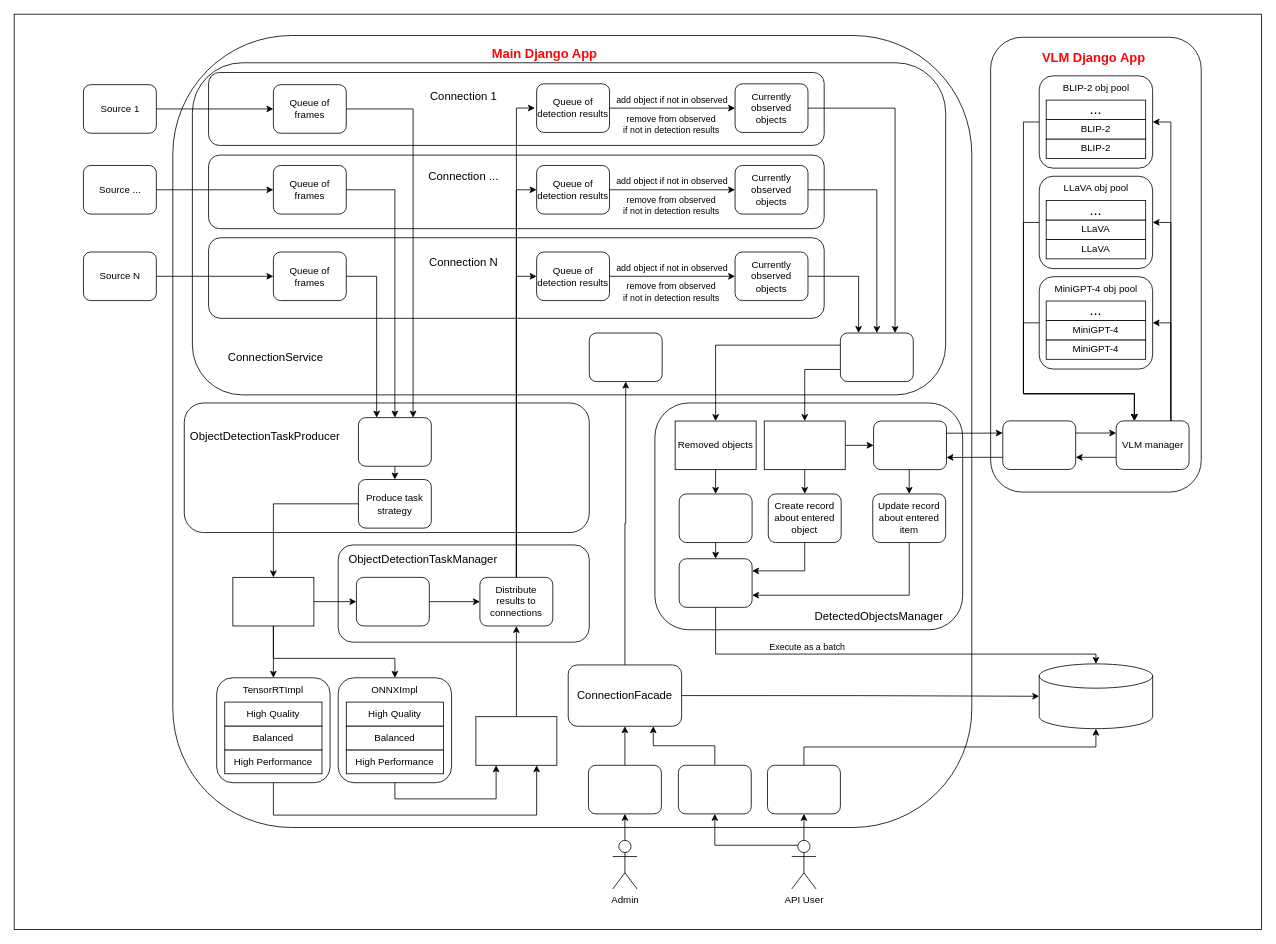
This 1276x944 diagram has some shape labels left out. The shapes that lost their labels are listed below. From the top down, each one's centre as x and y in pixels, then its label:
the point at 625,357: Handle connection command
the point at 876,357: Detected ObjectsTo HandleQueue
the point at 394,441: Queue of object detection tasks
the point at 804,445: New objects
the point at 909,445: Produce VLM task
the point at 1039,444: VLM controller
the point at 715,518: Create record about removed object
the point at 273,601: Produced task
the point at 392,601: Collect dict connection to frames
the point at 715,582: Queue of database requests
the point at 1095,696: PostgreSQL
the point at 516,740: Object detection results
the point at 624,789: AdminController
the point at 714,789: Streaming Resources Controller
the point at 803,789: ItemController
